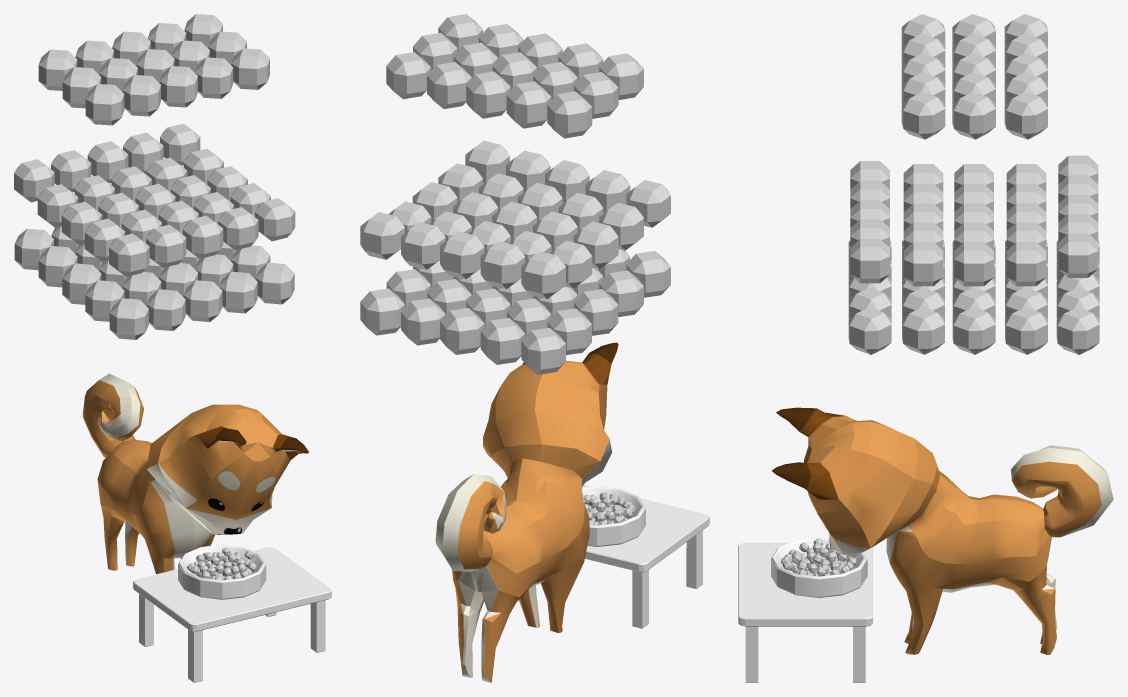
The model's file is fullBowl_Frame.obj.
3 views of the same model, side by side, from view 1: azimuth 30°, elevation 25°; view 2: azimuth 150°, elevation 25°; view 3: azimuth 270°, elevation 25° (orthographic). The views are drawn at different scales.
Visible parts, largest first — view 1: newRigging1:BodzL1, Tisch:Tisch:pCube1, FressnapfFull:bulletRigidSetSolved1, FressnapfFull:pCube45, FressnapfFull:pCube46, FressnapfFull:pCube57, FressnapfFull:pCube48, FressnapfFull:pCube50, FressnapfFull:pCube43, FressnapfFull:pCube49, FressnapfFull:pCube42, FressnapfFull:pCube36 (+44 smaller); view 2: newRigging1:BodzL1, Tisch:Tisch:pCube1, FressnapfFull:bulletRigidSetSolved1, FressnapfFull:pCube39, FressnapfFull:pCube51, FressnapfFull:pCube64, FressnapfFull:pCube54, FressnapfFull:pCube37, FressnapfFull:pCube61, FressnapfFull:pCube55, FressnapfFull:pCube53, FressnapfFull:pCube41 (+45 smaller); view 3: newRigging1:BodzL1, Tisch:Tisch:pCube1, FressnapfFull:bulletRigidSetSolved1, FressnapfFull:pCube36, FressnapfFull:pCube4, FressnapfFull:pCube41, FressnapfFull:pCube50, FressnapfFull:pCube55, FressnapfFull:pCube31, FressnapfFull:pCube20, FressnapfFull:pCube10, FressnapfFull:pCube15 (+42 smaller).
Boxes of the visible parts, box(x1,y1,x2,y2) form: newRigging1:BodzL1: box(82, 373, 308, 574); Tisch:Tisch:pCube1: box(133, 547, 331, 682); FressnapfFull:bulletRigidSetSolved1: box(178, 544, 266, 599); FressnapfFull:pCube45: box(85, 84, 124, 125); FressnapfFull:pCube46: box(109, 298, 148, 339); FressnapfFull:pCube57: box(109, 233, 149, 276); FressnapfFull:pCube48: box(183, 280, 222, 321); FressnapfFull:pCube50: box(255, 262, 294, 304); FressnapfFull:pCube43: box(159, 66, 197, 107); FressnapfFull:pCube49: box(146, 289, 185, 330); FressnapfFull:pCube42: box(122, 75, 160, 116); FressnapfFull:pCube36: box(231, 48, 269, 89); newRigging1:BodzL1: box(435, 342, 618, 682); Tisch:Tisch:pCube1: box(582, 484, 709, 628); FressnapfFull:bulletRigidSetSolved1: box(582, 486, 645, 546); FressnapfFull:pCube39: box(547, 91, 592, 138); FressnapfFull:pCube51: box(521, 327, 565, 374); FressnapfFull:pCube64: box(521, 251, 565, 298); FressnapfFull:pCube54: box(480, 318, 525, 364); FressnapfFull:pCube37: box(506, 81, 551, 128); FressnapfFull:pCube61: box(480, 241, 525, 289); FressnapfFull:pCube55: box(360, 288, 404, 335); FressnapfFull:pCube53: box(440, 308, 484, 354); FressnapfFull:pCube41: box(386, 52, 430, 99); newRigging1:BodzL1: box(772, 407, 1113, 654); Tisch:Tisch:pCube1: box(738, 542, 872, 682); FressnapfFull:bulletRigidSetSolved1: box(771, 537, 867, 597); FressnapfFull:pCube36: box(901, 92, 945, 139); FressnapfFull:pCube4: box(952, 307, 995, 354); FressnapfFull:pCube41: box(1004, 92, 1047, 139); FressnapfFull:pCube50: box(848, 307, 891, 354); FressnapfFull:pCube55: box(1056, 307, 1099, 354); FressnapfFull:pCube31: box(952, 92, 995, 139); FressnapfFull:pCube20: box(1006, 242, 1046, 286); FressnapfFull:pCube10: box(902, 307, 944, 354); FressnapfFull:pCube15: box(1005, 307, 1047, 354).
Size of the model in its own units: 5.73 by 16.34 by 9.44.
4 materials, 1 textured.
